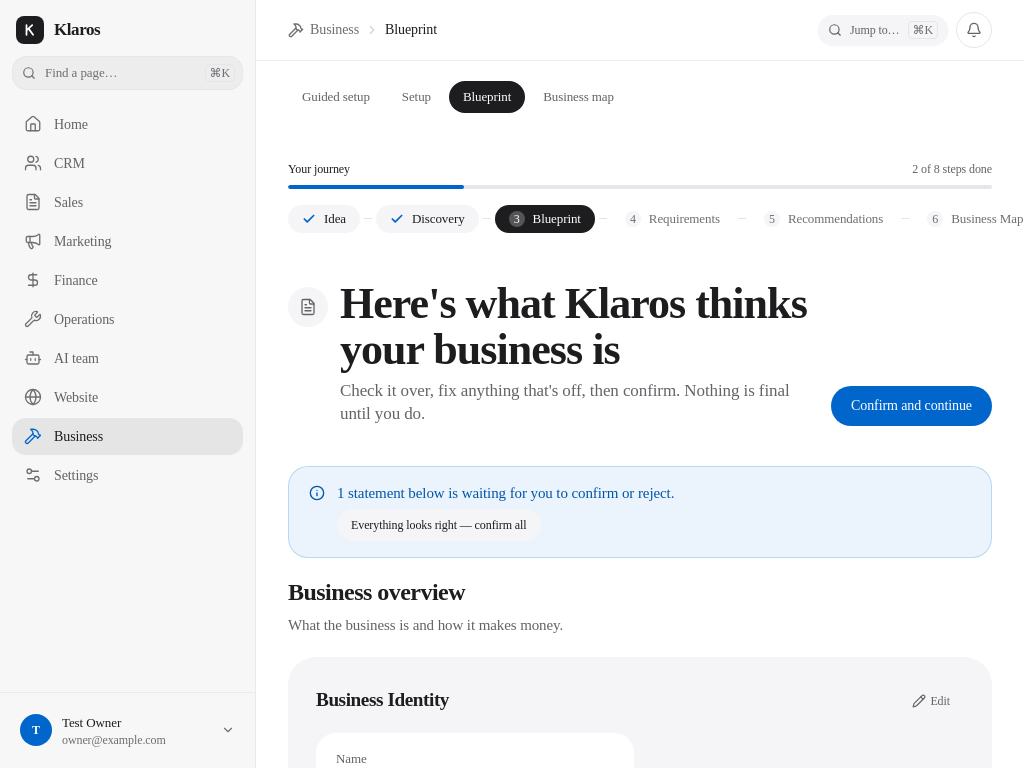
Test: Blueprint page › handles an incomplete/invalid blueprint confirmation (409) by reconciling instead of getting stuck
The width and height of the screenshot is (1024, 768).
What coordinates should you click on to do the following:
click the button "Confirm and continue"
I would click on:
 (912, 406)
Its box is [831,386,992,426].
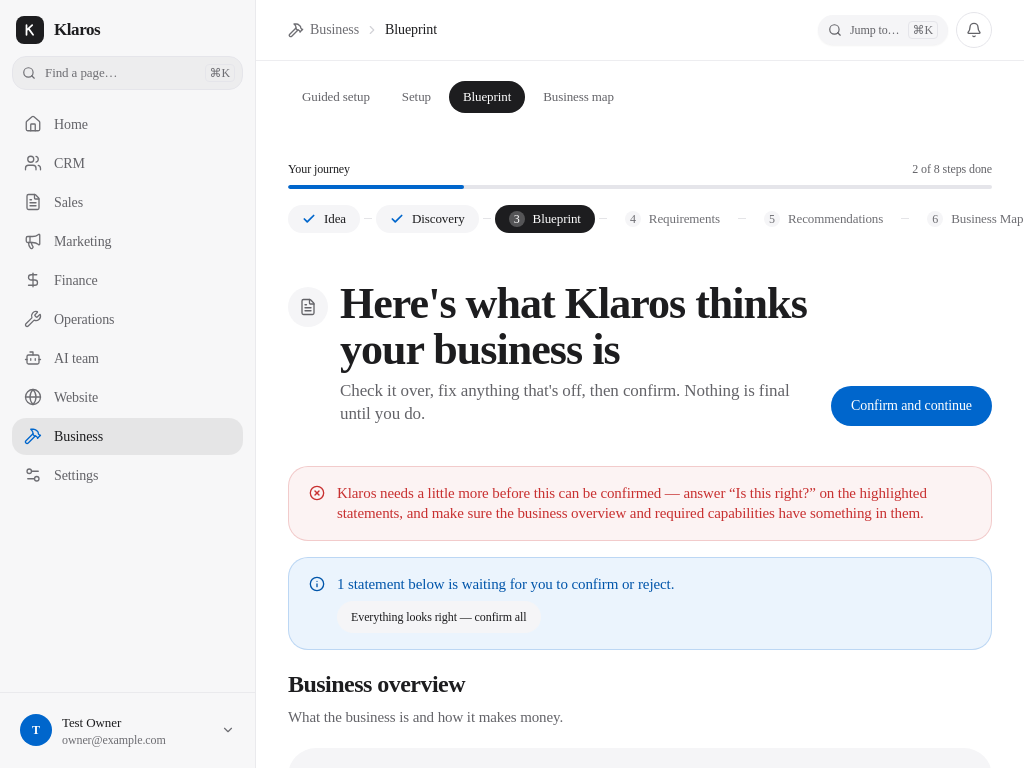
expect the text "needs a little more before this can be confirmed" is shown: met, box [337,485,927,521]
